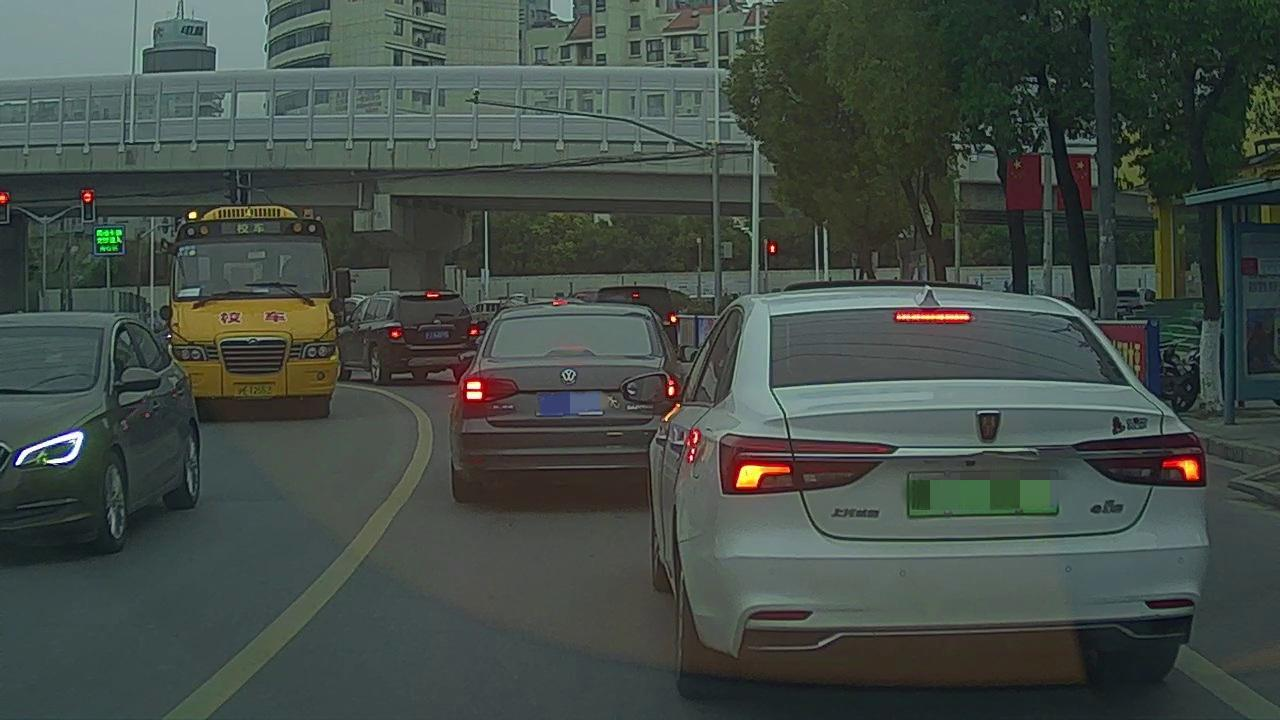traffic_light: (81, 190, 93, 222), (1, 196, 10, 222)
